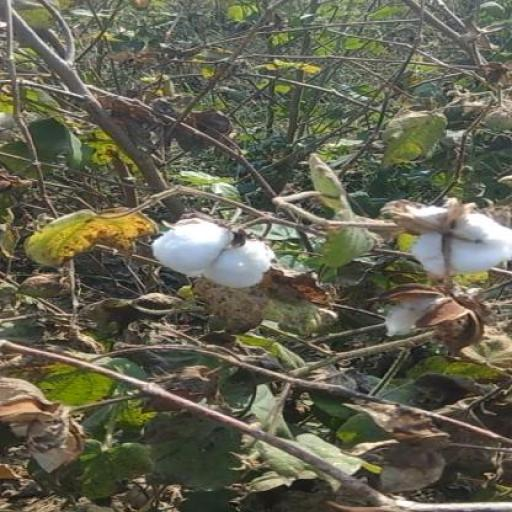cotton_ready: (375, 203, 511, 282), (135, 225, 277, 293)
